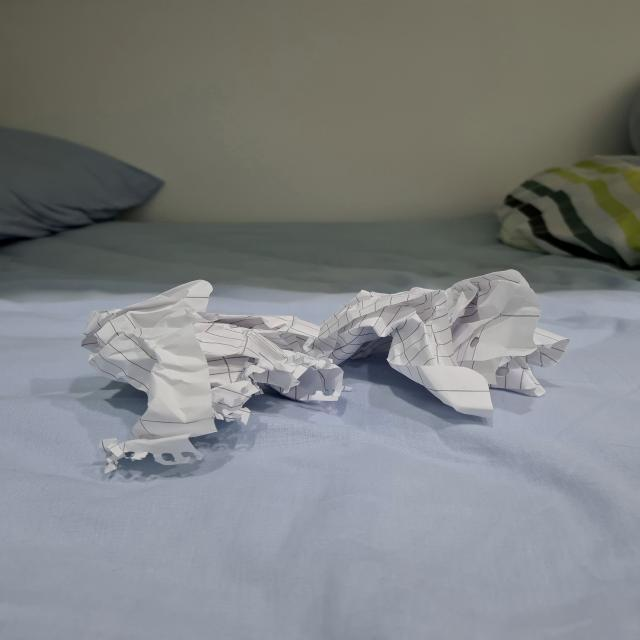Paper: (63, 255, 352, 489), (315, 258, 573, 440)
